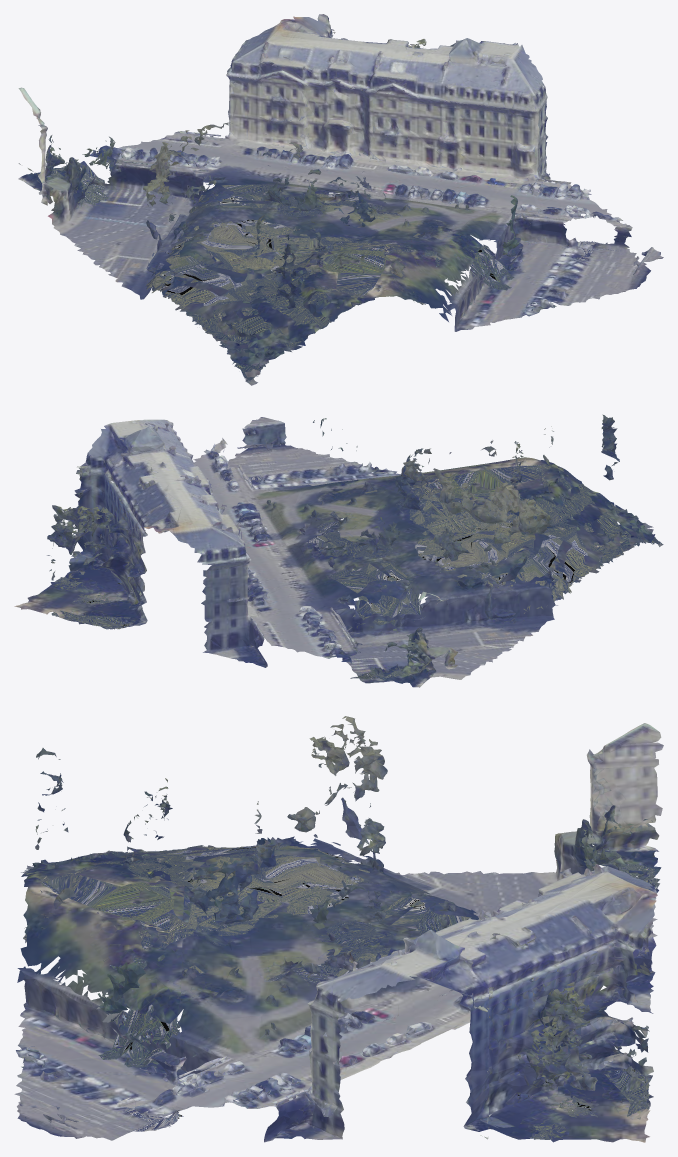
The picture shows the model from 3 angles, top to bottom: view 1: azimuth 30°, elevation 25°; view 2: azimuth 150°, elevation 25°; view 3: azimuth 270°, elevation 25°; orthographic projection. The views are drawn at different scales.
Size of the model in its own units: 104 by 33.46 by 104.
Materials: 1 (1 with a texture image).
